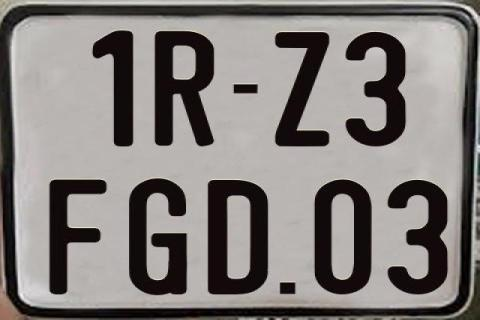0: (345, 31, 407, 146), (385, 180, 446, 296), (311, 178, 370, 294), (91, 28, 138, 146)
D: (206, 179, 266, 295)
F: (47, 178, 111, 294)
G: (126, 176, 186, 294)
R: (152, 29, 214, 145)
Z: (274, 30, 332, 146)
